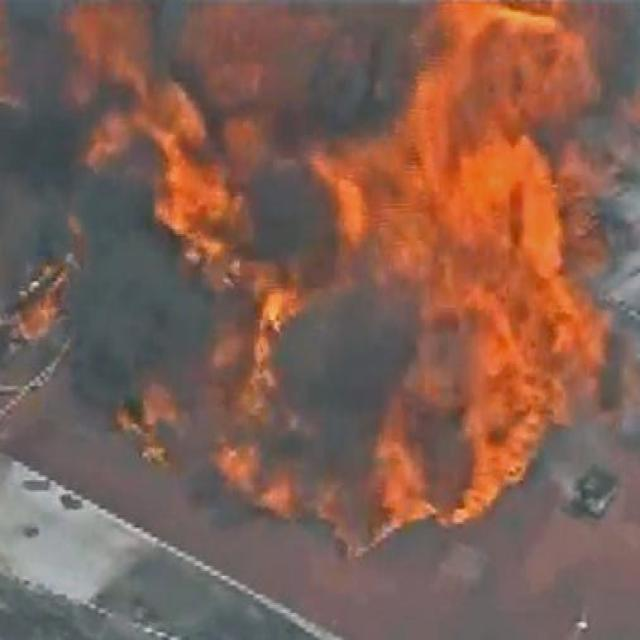Fire: (304, 0, 622, 556), (136, 78, 290, 316), (58, 0, 220, 182), (218, 272, 319, 430), (210, 439, 316, 540), (18, 208, 88, 354)
